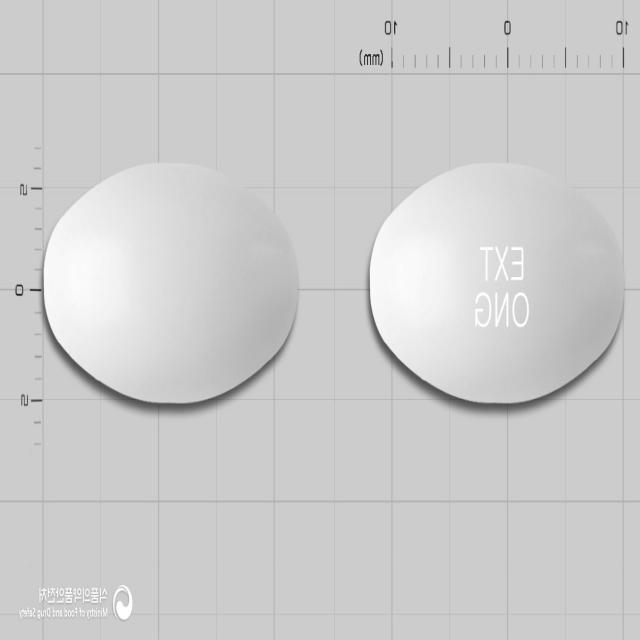Clari - 500mg: (368, 158, 624, 409), (41, 160, 297, 405)
